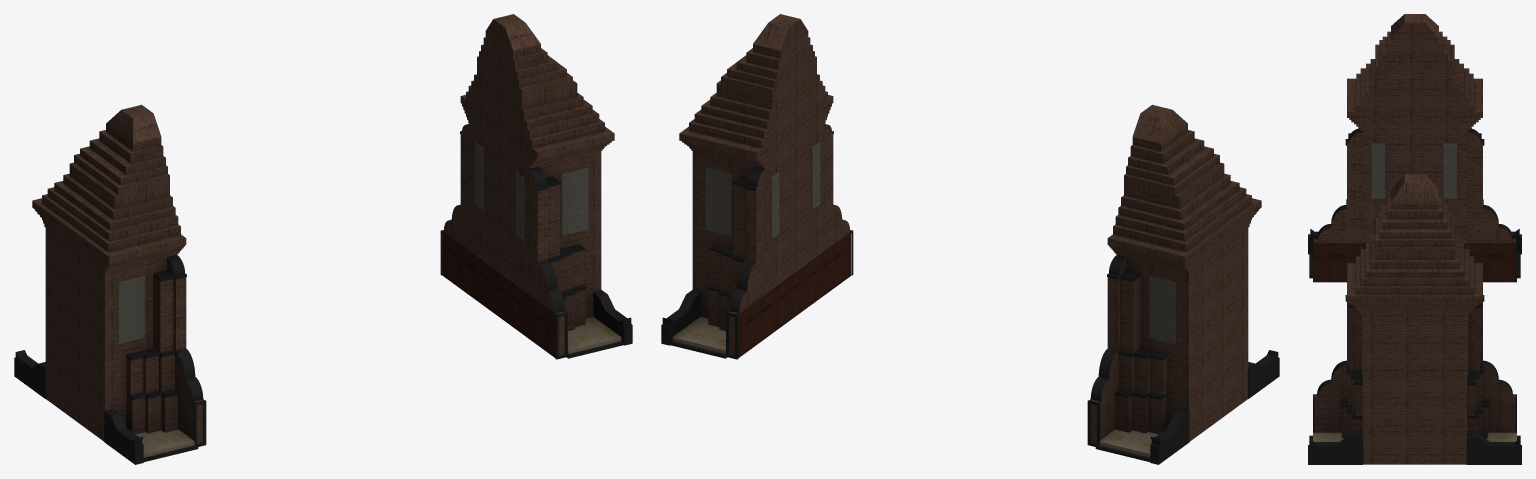
The model's file is gapurakotamalang.glb.
The picture shows the model from 3 angles, left to right: view 1: azimuth 30°, elevation 25°; view 2: azimuth 150°, elevation 25°; view 3: azimuth 270°, elevation 25°; orthographic projection. The views are drawn at different scales.
Visible parts, largest first — view 1: Cube.006, Cube.007, Cube.011, Cube.024, Cube.010, Cube.009, Cube.018, Cube.012, Cube.008; view 2: Cube.006, Cube.007, Cube.011, Cube.024, Cube.010, Cube.009, Cube.018, Cube.012, Cube.008; view 3: Cube.007, Cube.006, Cube.010, Cube.016, Cube.018, Cube.024, Cube.012.
Boxes of the visible parts, x1=… form: Cube.006: x1=32, y1=104, x2=203, y2=444; Cube.007: x1=441, y1=14, x2=614, y2=355; Cube.011: x1=441, y1=231, x2=555, y2=357; Cube.024: x1=14, y1=255, x2=206, y2=464; Cube.010: x1=440, y1=124, x2=632, y2=359; Cube.009: x1=474, y1=142, x2=588, y2=240; Cube.018: x1=118, y1=275, x2=145, y2=344; Cube.012: x1=568, y1=317, x2=621, y2=354; Cube.008: x1=135, y1=429, x2=194, y2=457; Cube.006: x1=1090, y1=104, x2=1261, y2=444; Cube.007: x1=679, y1=14, x2=852, y2=355; Cube.011: x1=738, y1=231, x2=852, y2=357; Cube.024: x1=1087, y1=255, x2=1279, y2=464; Cube.010: x1=661, y1=124, x2=853, y2=359; Cube.009: x1=705, y1=141, x2=820, y2=239; Cube.018: x1=1148, y1=275, x2=1175, y2=344; Cube.012: x1=672, y1=317, x2=725, y2=354; Cube.008: x1=1099, y1=429, x2=1158, y2=457; Cube.007: x1=1314, y1=174, x2=1515, y2=464; Cube.006: x1=1314, y1=14, x2=1515, y2=242; Cube.010: x1=1308, y1=295, x2=1521, y2=464; Cube.016: x1=1314, y1=243, x2=1515, y2=282; Cube.018: x1=1371, y1=143, x2=1456, y2=198; Cube.024: x1=1308, y1=128, x2=1521, y2=282; Cube.012: x1=1313, y1=432, x2=1516, y2=441.
Size of the model in its own units: 16.9 by 9.39 by 7.01.
5 materials, 5 textured.
